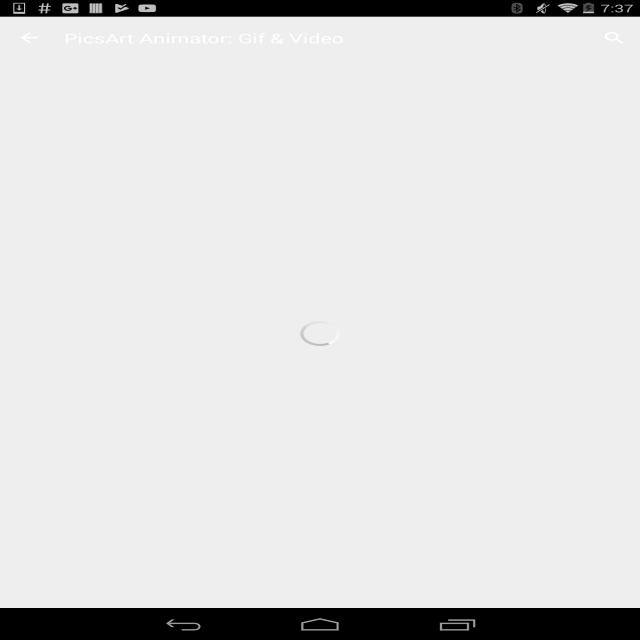Button: (222, 406, 316, 472), (324, 406, 418, 472), (426, 406, 520, 472), (454, 352, 614, 376)
ImageButton: (0, 17, 60, 59)
ImageView: (0, 59, 640, 254), (26, 270, 196, 377), (308, 550, 468, 640), (472, 550, 632, 640), (0, 550, 150, 640), (154, 550, 304, 640), (332, 406, 411, 455), (434, 406, 513, 455), (60, 30, 224, 46), (589, 270, 614, 286), (637, 550, 640, 640), (222, 312, 239, 323), (281, 464, 290, 469)
TextView: (0, 490, 640, 519), (0, 519, 640, 537), (222, 270, 589, 295), (222, 295, 478, 309), (589, 22, 640, 54), (324, 455, 418, 472), (426, 455, 520, 472), (120, 455, 213, 472), (526, 380, 614, 392), (245, 311, 316, 325), (144, 420, 188, 440), (250, 415, 288, 437), (133, 443, 200, 452), (247, 455, 278, 472)
